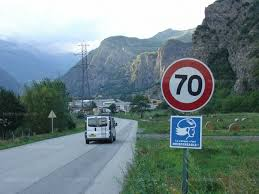Speed_limit_70km: (159, 57, 215, 112)
